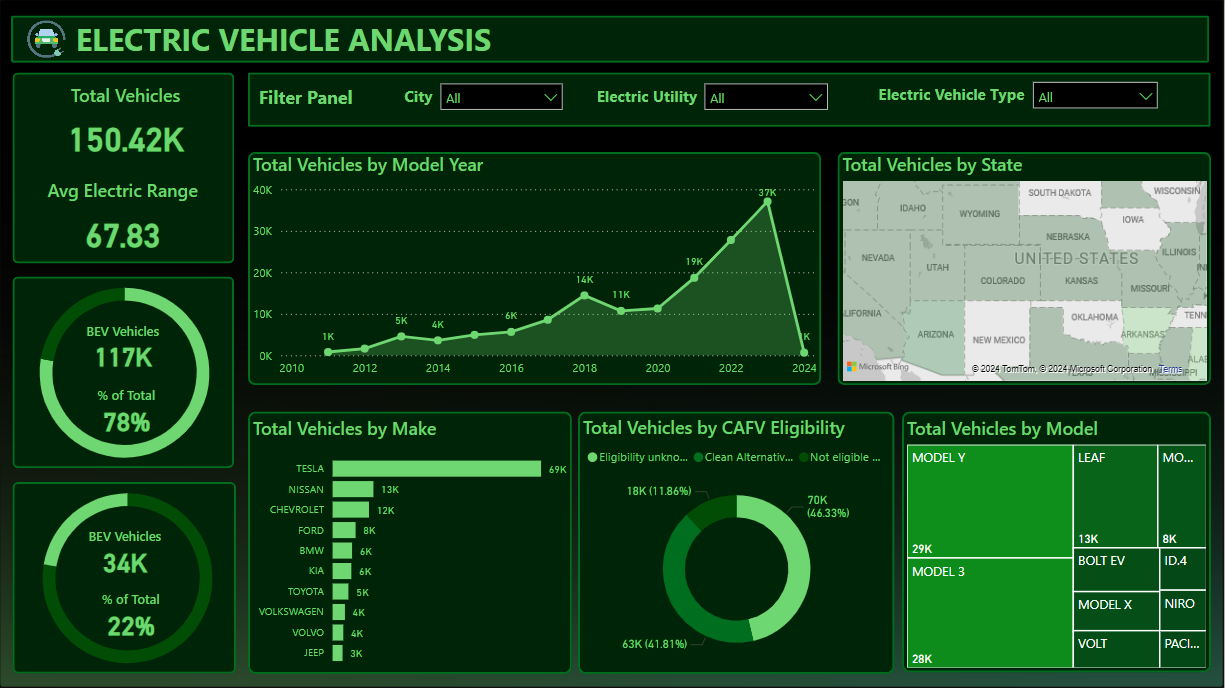

The dashboard page shown, as its layout file describes it:
{"tool":"powerbi","page":{"name":"Page 1","canvas":[1280,720],"ordinal":0},"visuals":[{"type":"shape","box":[13.3,17.1,1250.9,49.4],"z":0},{"type":"textbox","box":[75.2,14.1,590.4,53.2],"z":1000},{"type":"shape","box":[14.1,77.3,231.6,199.3],"z":2000},{"type":"card","title":"Total Vehicles","fields":{"Values":["Electric_Vehicle_Population_Data.Total Vehicles"]},"box":[20,88.3,223.3,88.3],"z":3000},{"type":"card","title":"Avg Electric Range","fields":{"Values":["Avg(Electric_Vehicle_Population_Data.Electric Range)"]},"box":[21.1,186.5,217.3,90.7],"z":4000},{"type":"shape","box":[14.6,289.6,231.2,200],"z":5000},{"type":"shape","box":[14.6,504.2,233.3,200],"z":6000},{"type":"donutChart","fields":{"Category":["Electric_Vehicle_Population_Data.Electric Vehicle Type"],"Y":["Electric_Vehicle_Population_Data.Total Vehicles"]},"box":[1.7,273.3,258.3,231.7],"z":7000},{"type":"card","title":"BEV Vehicles","fields":{"Values":["Electric_Vehicle_Population_Data.BEV Vehicles"]},"box":[80,336.7,98.3,53.3],"z":8000},{"type":"card","title":"% of Total","fields":{"Values":["Electric_Vehicle_Population_Data.% of BEV Vehicle"]},"box":[73.3,403.3,118.3,53.3],"z":9000},{"type":"donutChart","fields":{"Category":["Electric_Vehicle_Population_Data.Electric Vehicle Type"],"Y":["Electric_Vehicle_Population_Data.Total Vehicles"]},"box":[5,488.3,258.3,231.7],"z":10000},{"type":"card","title":"BEV Vehicles","fields":{"Values":["Electric_Vehicle_Population_Data.PHEV Vehicles"]},"box":[85,551.7,93.3,53.3],"z":11000},{"type":"card","title":"% of Total","fields":{"Values":["Electric_Vehicle_Population_Data.% of PHEV Vehicle"]},"box":[77.8,617.8,118.3,53.3],"z":12000},{"type":"shape","box":[260,76.7,1005,56.7],"z":13000},{"type":"shape","box":[260,160,598.3,243.3],"z":14000},{"type":"areaChart","fields":{"Category":["Electric_Vehicle_Population_Data.Model Year"],"Y":["Electric_Vehicle_Population_Data.Total Vehicles"]},"box":[260,160,598.3,243.3],"z":15000},{"type":"shape","box":[875,160,390,243.3],"z":16000},{"type":"filledMap","fields":{"Category":["Electric_Vehicle_Population_Data.State"]},"box":[875,160,390,243.3],"z":17000},{"type":"shape","box":[260,430.7,338.3,274.1],"z":18000},{"type":"shape","box":[604.5,430.7,330.4,274.1],"z":19000},{"type":"shape","box":[942.8,430.7,322.6,272.5],"z":20000},{"type":"barChart","fields":{"Category":["Electric_Vehicle_Population_Data.Make"],"Y":["Electric_Vehicle_Population_Data.Total Vehicles"]},"box":[260,435.4,338.3,269.4],"z":21000},{"type":"donutChart","title":"Total Vehicles by CAFV Eligibility","fields":{"Category":["Electric_Vehicle_Population_Data.Clean Alternative Fuel Vehicle (CAFV) Eligibility"],"Y":["Electric_Vehicle_Population_Data.Total Vehicles"]},"box":[604.5,433.8,330.4,269.4],"z":22000},{"type":"treemap","fields":{"Group":["Electric_Vehicle_Population_Data.Model"],"Values":["Electric_Vehicle_Population_Data.Total Vehicles"]},"box":[942.8,435.4,322.6,267.8],"z":23000},{"type":"textbox","box":[266.7,85,128.3,40],"z":24000},{"type":"slicer","fields":{"Values":["Electric_Vehicle_Population_Data.City"]},"box":[451,78.3,147.2,43.9],"z":25000},{"type":"textbox","box":[410,85,55,38.3],"z":26000},{"type":"slicer","fields":{"Values":["Electric_Vehicle_Population_Data.Electric Utility"]},"box":[726.7,78.3,148.3,38.3],"z":27000},{"type":"textbox","box":[611.7,85,128.3,33.3],"z":28000},{"type":"slicer","fields":{"Values":["Electric_Vehicle_Population_Data.Electric Vehicle Type"]},"box":[1070,76.7,150,38.3],"z":29000},{"type":"textbox","box":[903.3,83.3,181.7,33.3],"z":30000},{"type":"image","box":[23.8,16.9,51.5,49.2],"z":31000}]}

Visuals, with their boxes in screenshot pixels (x1, y1, x2, y2), scaled from the page's 1280x720 canvas onto the 1225x688 screenshot:
shape: (13, 16, 1210, 64)
textbox: (72, 13, 637, 64)
shape: (13, 74, 235, 264)
"Total Vehicles" card: (19, 84, 233, 169)
"Avg Electric Range" card: (20, 178, 228, 265)
shape: (14, 277, 235, 468)
shape: (14, 482, 237, 673)
donutChart - Electric_Vehicle_Population_Data.Electric Vehicle Type x Electric_Vehicle_Population_Data.Total Vehicles: (2, 261, 249, 483)
"BEV Vehicles" card: (77, 322, 171, 373)
"% of Total" card: (70, 385, 183, 436)
donutChart - Electric_Vehicle_Population_Data.Electric Vehicle Type x Electric_Vehicle_Population_Data.Total Vehicles: (5, 467, 252, 687)
"BEV Vehicles" card: (81, 527, 171, 578)
"% of Total" card: (74, 590, 188, 641)
shape: (249, 73, 1211, 127)
shape: (249, 153, 821, 385)
areaChart - Electric_Vehicle_Population_Data.Model Year x Electric_Vehicle_Population_Data.Total Vehicles: (249, 153, 821, 385)
shape: (837, 153, 1211, 385)
filledMap - Electric_Vehicle_Population_Data.State: (837, 153, 1211, 385)
shape: (249, 412, 573, 673)
shape: (579, 412, 895, 673)
shape: (902, 412, 1211, 672)
barChart - Electric_Vehicle_Population_Data.Make x Electric_Vehicle_Population_Data.Total Vehicles: (249, 416, 573, 673)
"Total Vehicles by CAFV Eligibility" donutChart: (579, 415, 895, 672)
treemap - Electric_Vehicle_Population_Data.Model x Electric_Vehicle_Population_Data.Total Vehicles: (902, 416, 1211, 672)
textbox: (255, 81, 378, 119)
slicer - Electric_Vehicle_Population_Data.City: (432, 75, 572, 117)
textbox: (392, 81, 445, 118)
slicer - Electric_Vehicle_Population_Data.Electric Utility: (695, 75, 837, 111)
textbox: (585, 81, 708, 113)
slicer - Electric_Vehicle_Population_Data.Electric Vehicle Type: (1024, 73, 1168, 110)
textbox: (864, 80, 1038, 111)
image: (23, 16, 72, 63)
